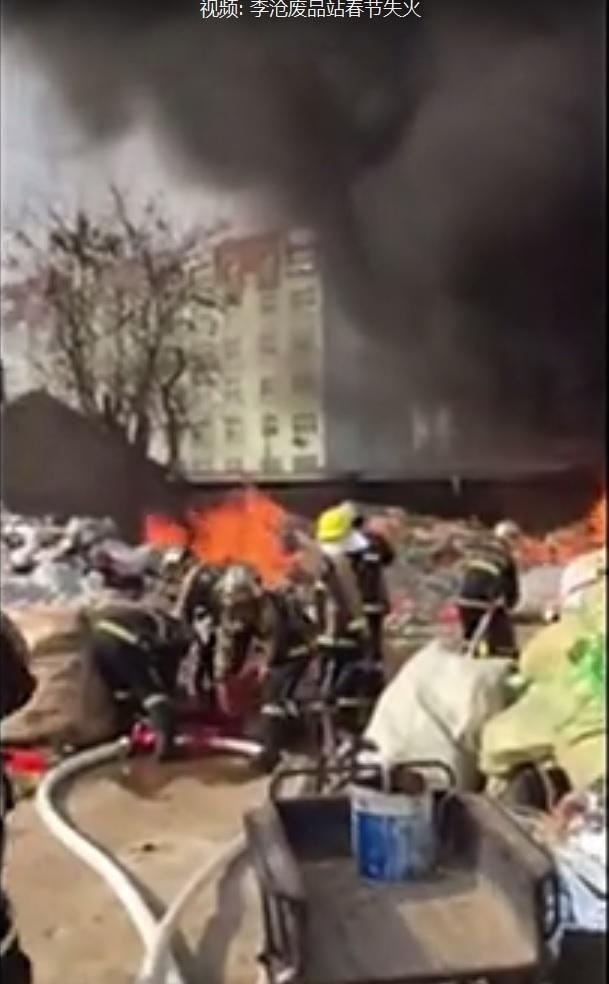fire: (146, 488, 300, 581)
